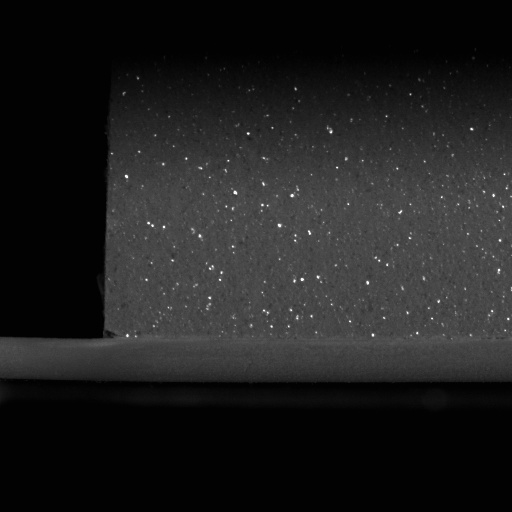changdai: (0, 333, 109, 384)
